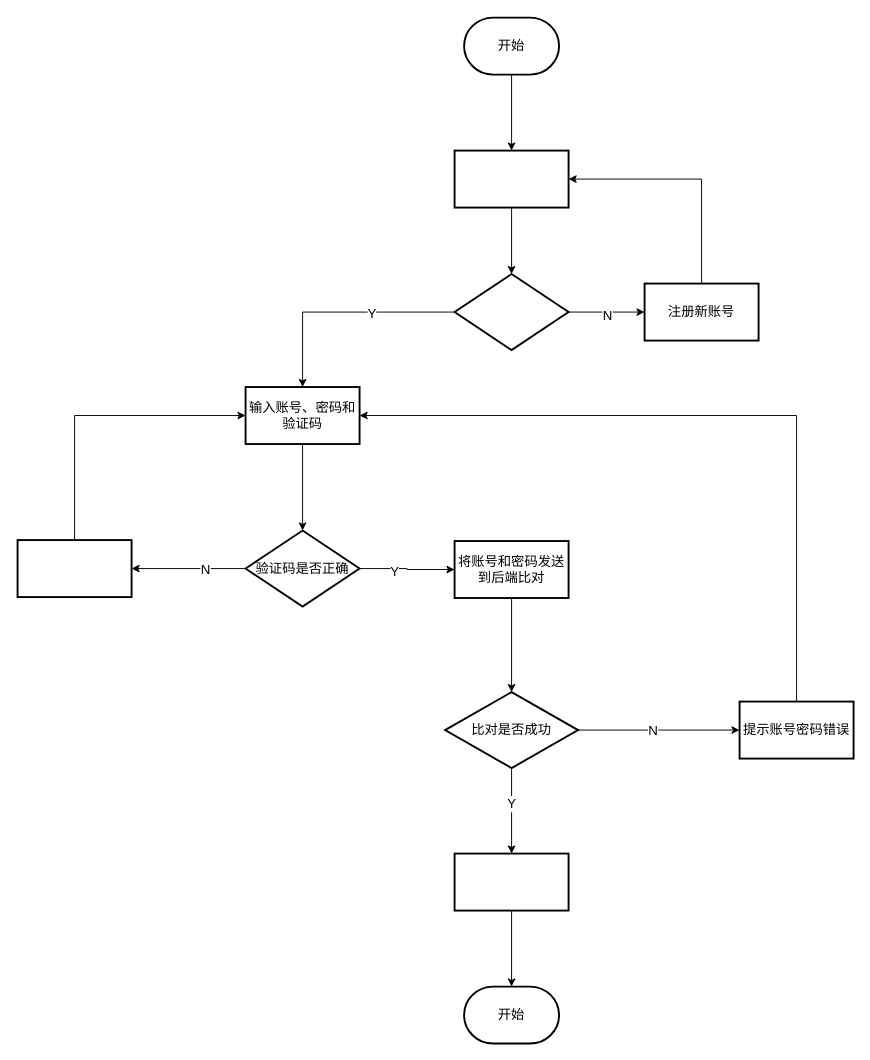
Some shapes in this 870 by 1060 pixel diagram are drawn without their labels. Each missing label, with the box of its shape:
提示验证码错误: (16, 539, 132, 598)
是否拥有账号: (453, 273, 569, 351)
登录成功: (453, 852, 569, 911)
进入登录界面: (453, 149, 569, 208)
